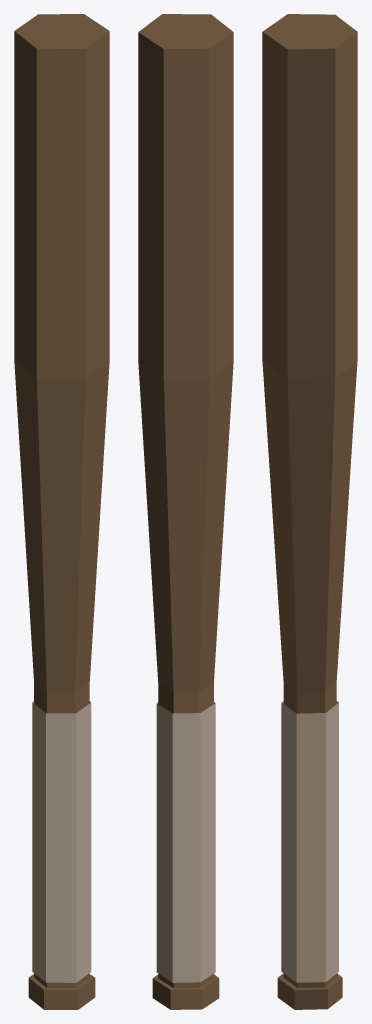
Rendered from Item_Bat00.FBX.
3 views of the same model, side by side, from view 1: azimuth 30°, elevation 25°; view 2: azimuth 210°, elevation 25°; view 3: azimuth 270°, elevation 25° (orthographic).
Visible parts, largest first — view 1: Item_Bat00; view 2: Item_Bat00; view 3: Item_Bat00.
Part boxes in pixels (x1,y1,x2,y2): Item_Bat00: [14, 14, 109, 1009]; Item_Bat00: [138, 14, 233, 1009]; Item_Bat00: [262, 14, 357, 1009].
Bounding box in the file's own units: 6.17 × 78.29 × 6.98.
